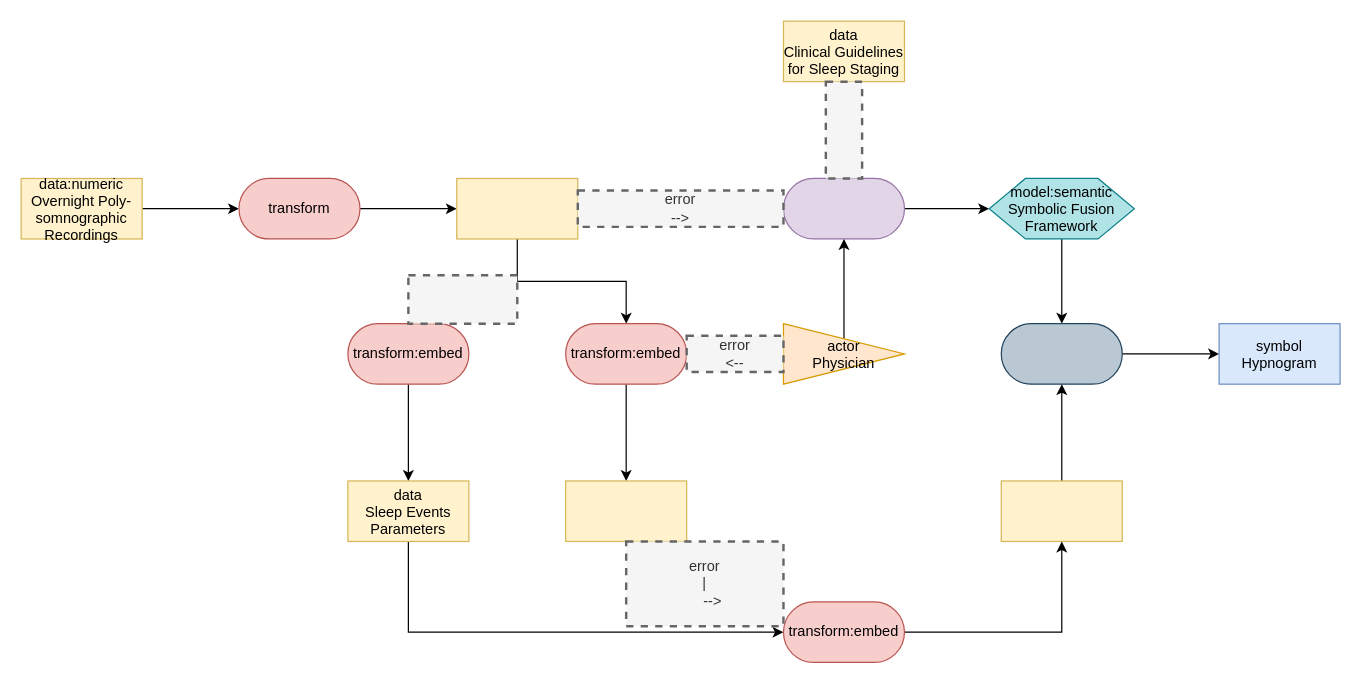
This 1361x684 diagram has some shape labels left out. Each missing label, with the centre of its shape:
data Partially Scored Hypnogram: the point at 625,510
data Personalized Threshold: the point at 1061,510
data:numeric Cleaned Physiological Signals: the point at 517,208
error | v: the point at 462,298
error | | v: the point at 843,129
generate:engineer: the point at 843,208
infer:deduce: the point at 1061,353
